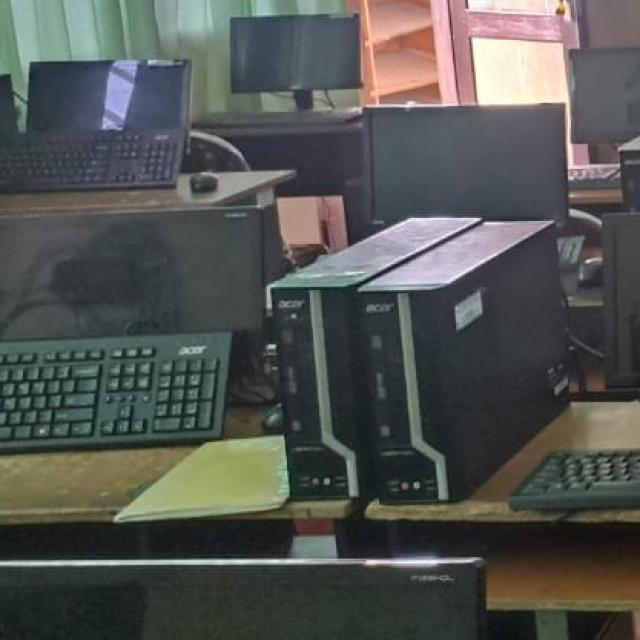offscreen: (0, 208, 284, 341), (367, 106, 568, 222), (29, 61, 189, 132), (231, 17, 359, 92)
